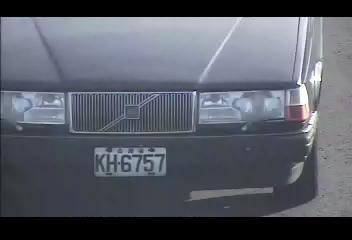plate: (92, 145, 168, 179)
